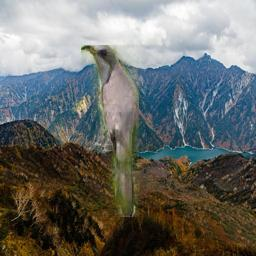Cuckoo: (81, 45, 139, 217)
